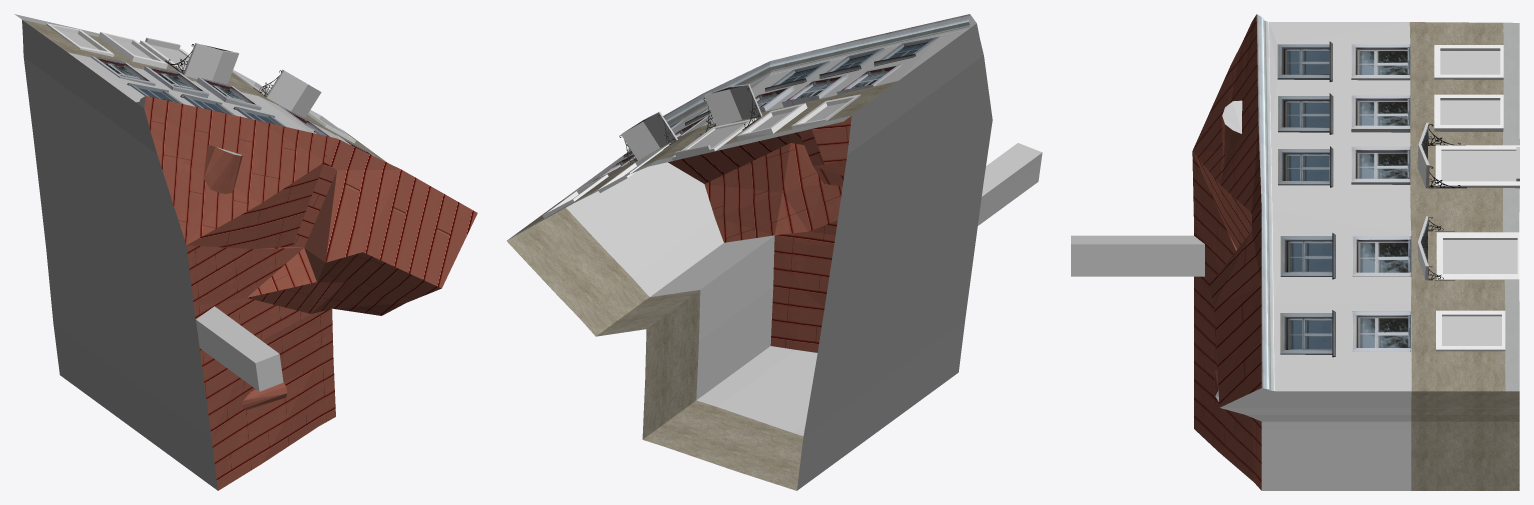
The model's file is Nunne_9.obj.
3 renders of one model, left to right at view 1: azimuth 30°, elevation 25°; view 2: azimuth 150°, elevation 25°; view 3: azimuth 270°, elevation 25°, orthographic. The views are drawn at different scales.
Parts seen in each view (by area): view 1: Nunne_9; view 2: Nunne_9; view 3: Nunne_9.
Part boxes in pixels (bbox=[...]): Nunne_9: bbox=[14, 14, 477, 490]; Nunne_9: bbox=[507, 14, 1042, 490]; Nunne_9: bbox=[1071, 14, 1519, 490].
Bounding box in the file's own units: 14.04 × 15.18 × 15.67.
